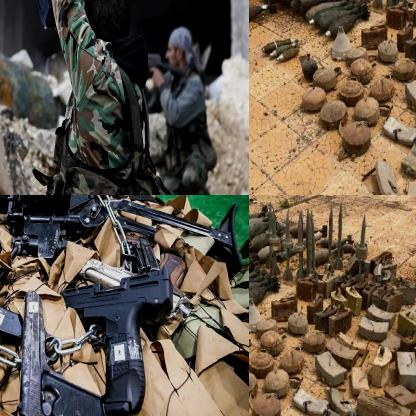pistol: (58, 265, 176, 415), (14, 291, 108, 415), (112, 232, 158, 273)
rifle: (0, 195, 245, 272)
